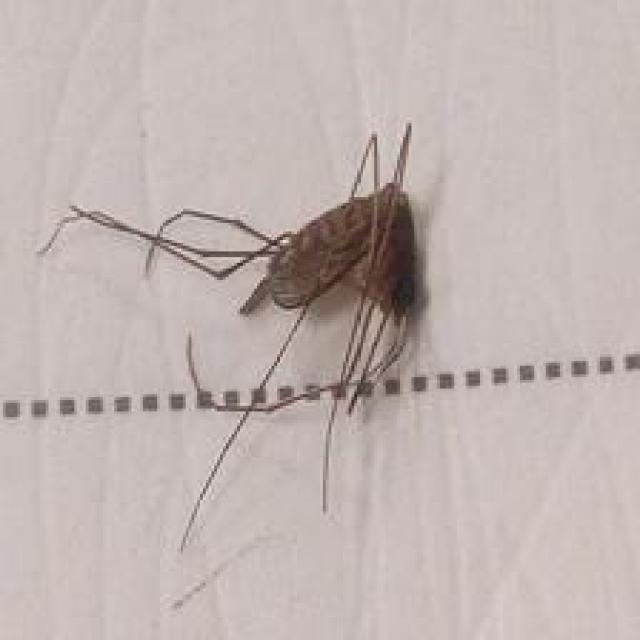Culex: (34, 120, 423, 609)
